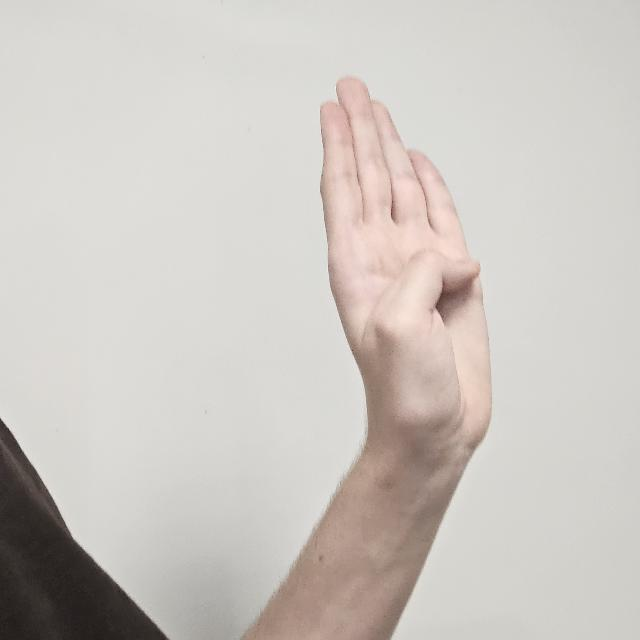Baixo: (320, 74, 500, 462)
